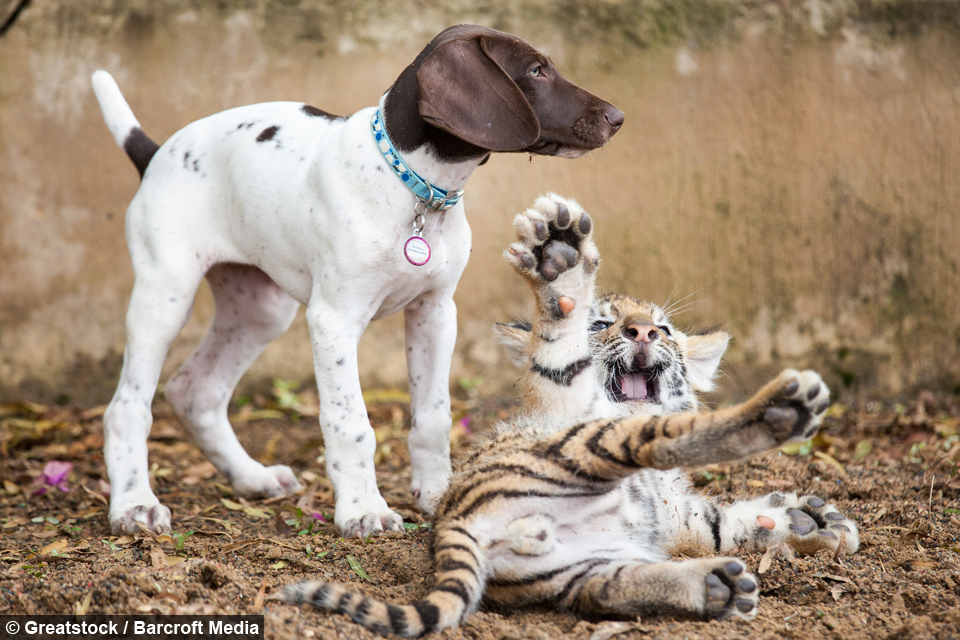dog: (77, 18, 621, 535)
tiger: (387, 192, 842, 640)
